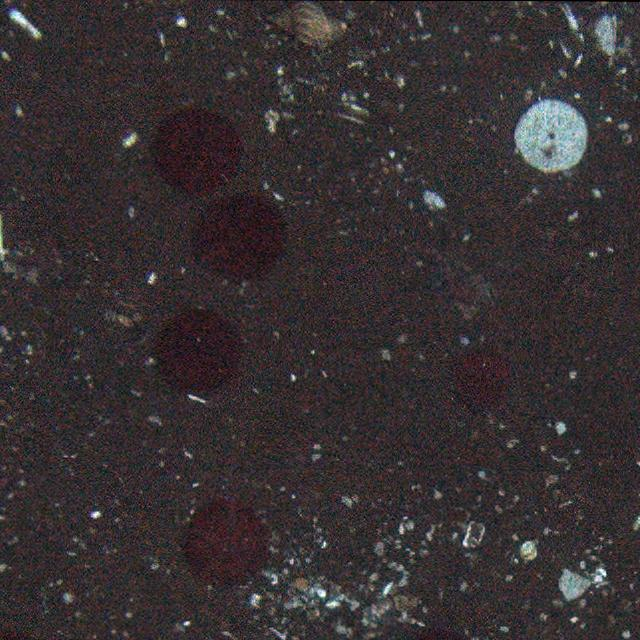whelk: (267, 0, 349, 49)
